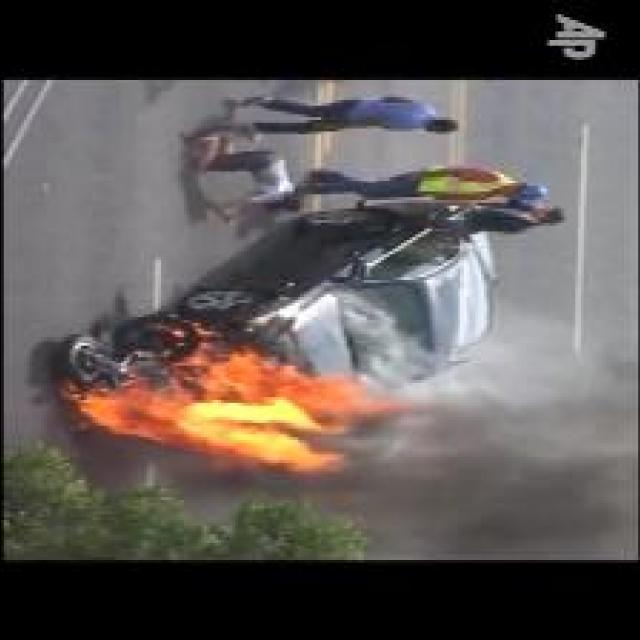Fire: (66, 328, 408, 474)
